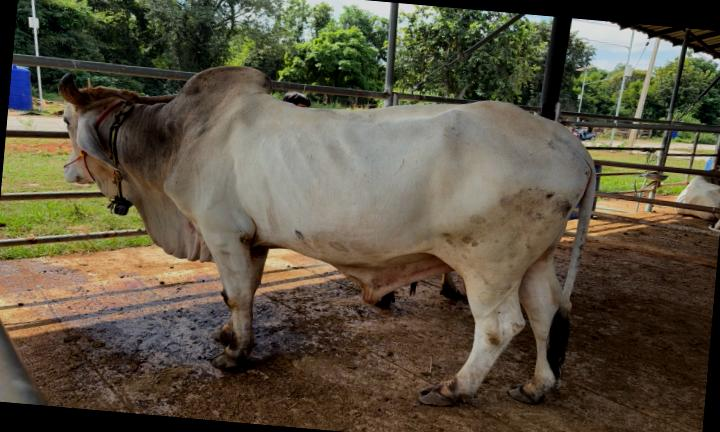Brahman: (59, 66, 595, 405)
